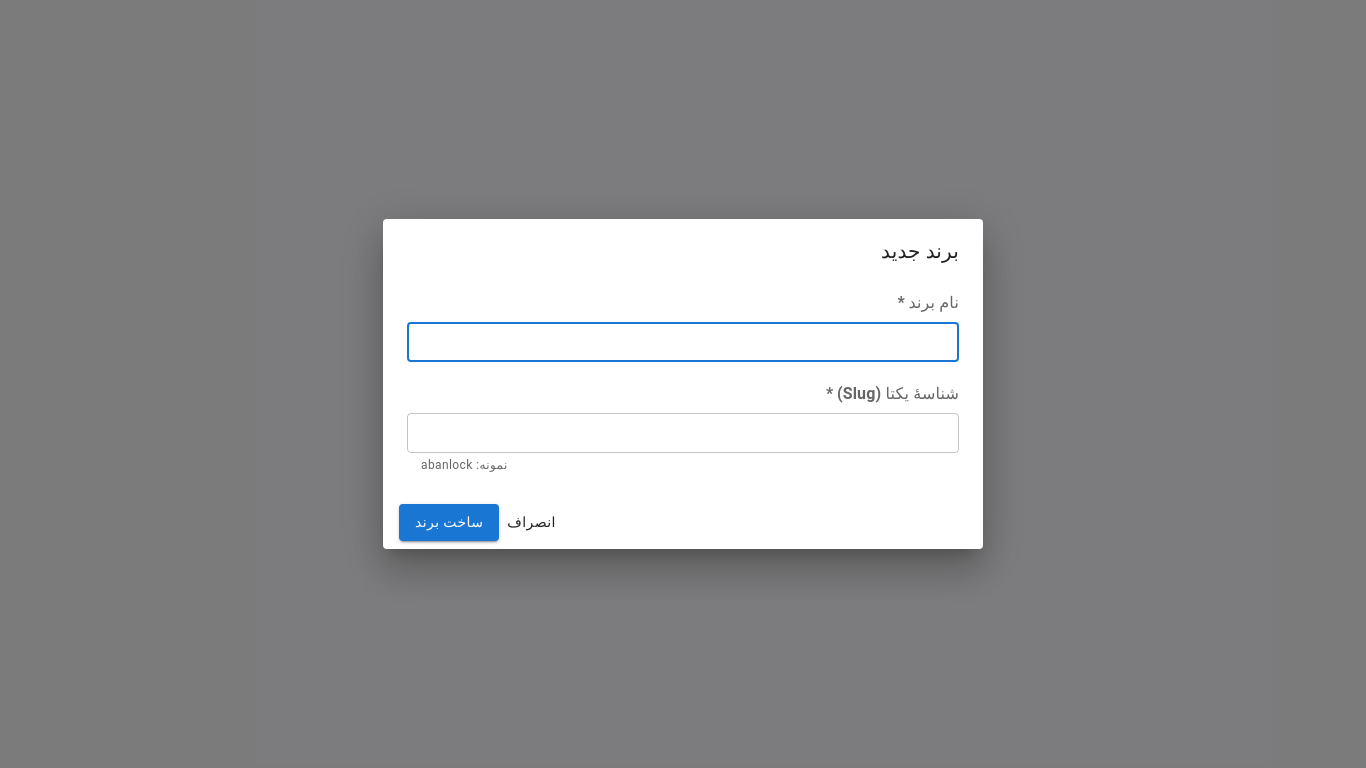
it: BrandDialog › creates a brand with trimmed name and slug
Expected: the heading "برند جدید" is shown, [881,239,959,263]
In the field labelled "نام برند *": (683, 342) [407,322,959,362], type "  آبان   "
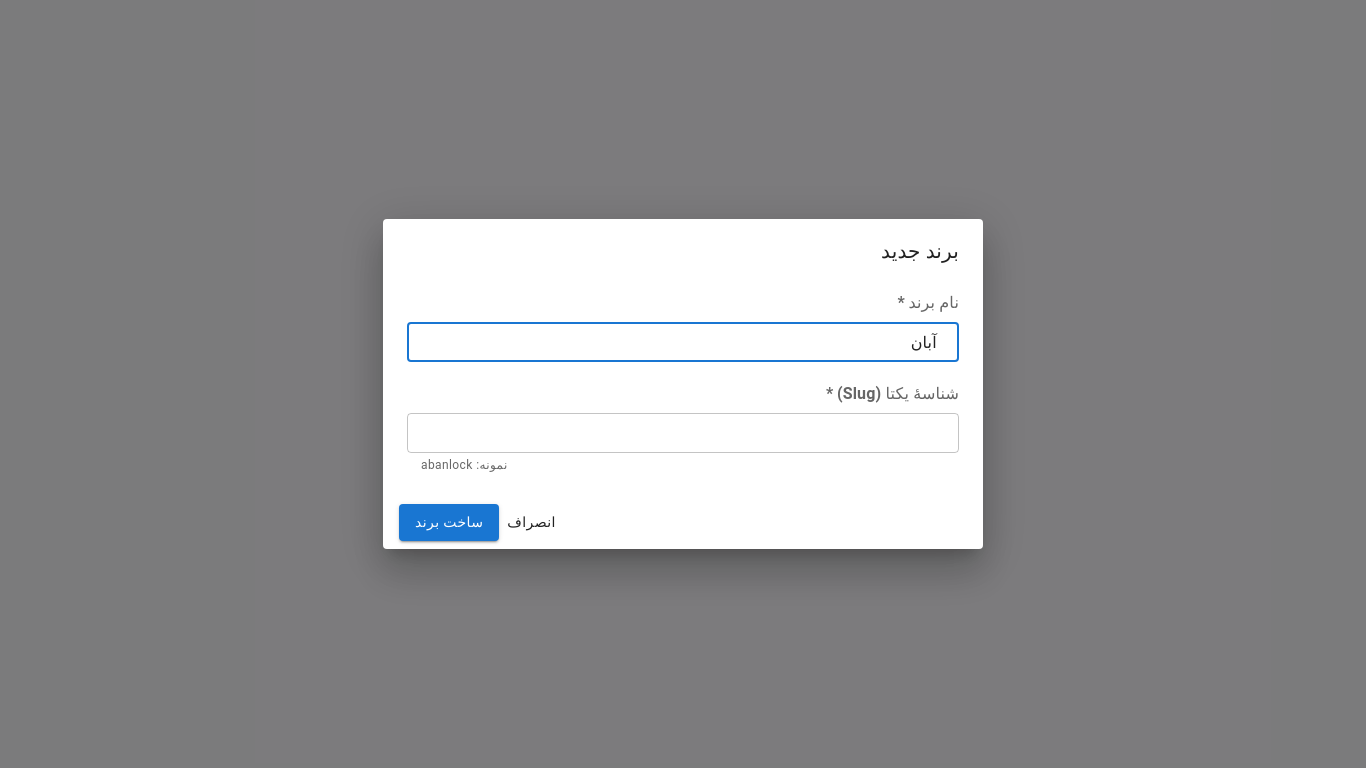
In the field labelled "شناسهٔ یکتا (Slug) *": (683, 433) [407,413,959,453], type "Ab an lock"
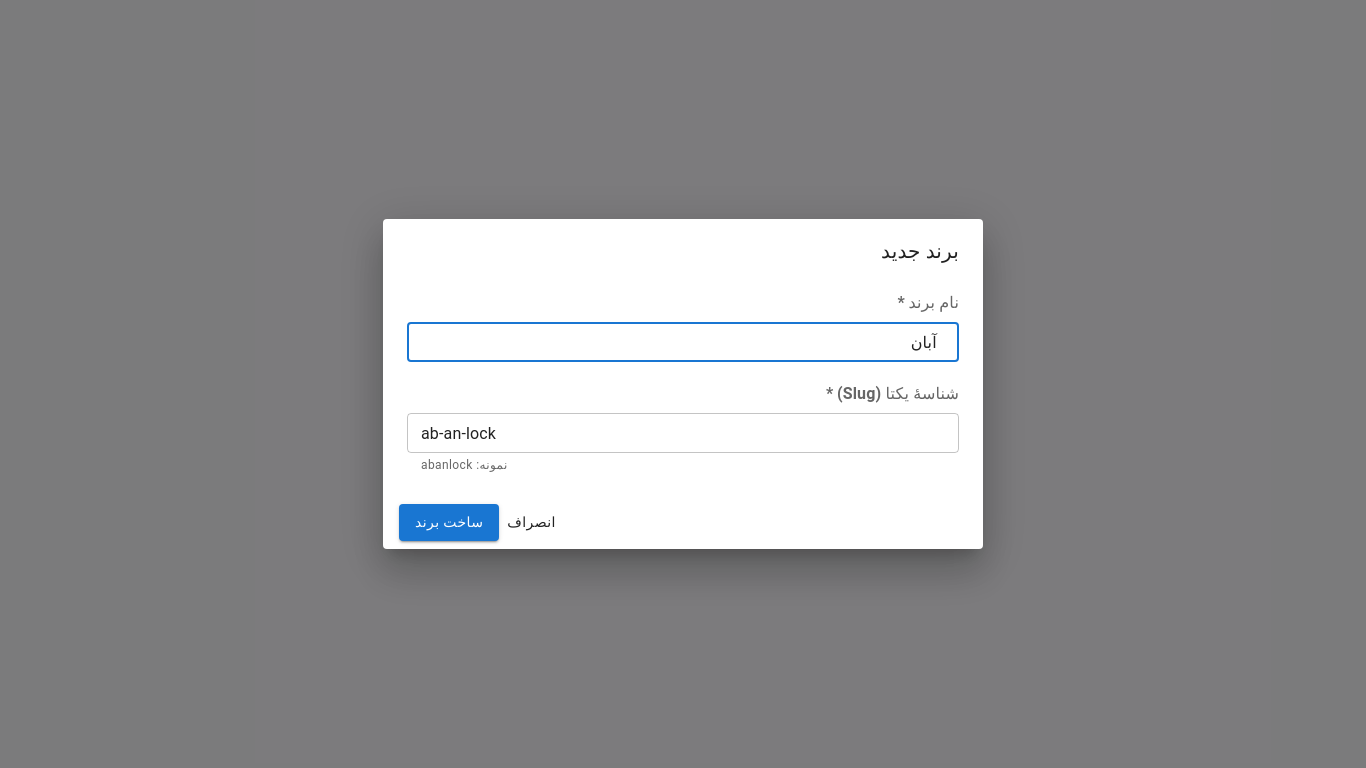
Click the button "ساخت برند": (449, 522) [399,504,499,541]
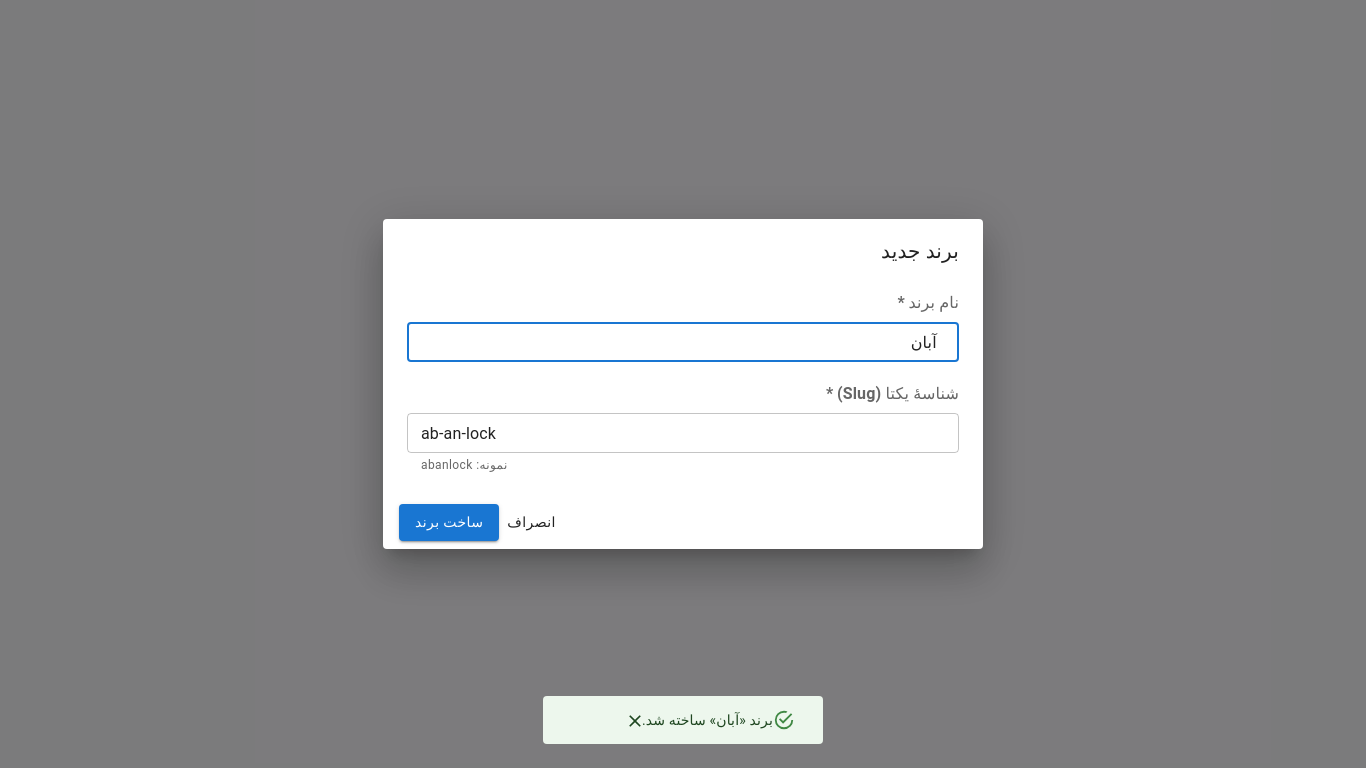
Expected: the text "برند «آبان» ساخته شد." is shown, [642,712,773,728]
